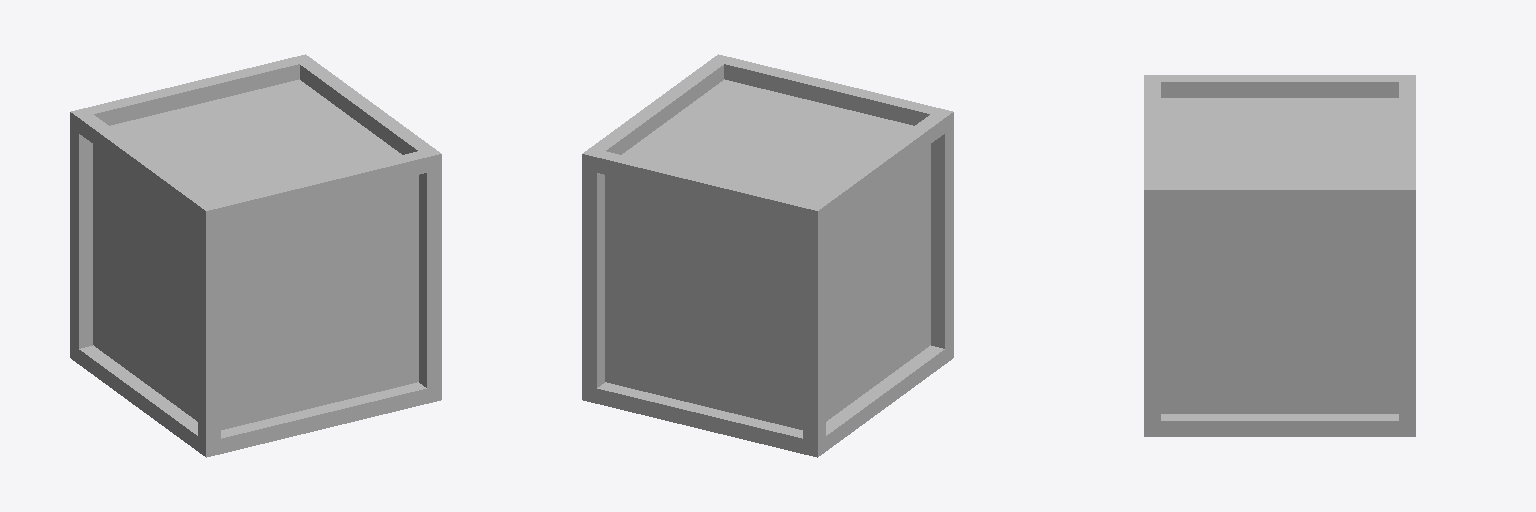
File: tris.obj
3 renders of one model, left to right at view 1: azimuth 30°, elevation 25°; view 2: azimuth 150°, elevation 25°; view 3: azimuth 270°, elevation 25°, orthographic.
Visible parts, largest first — view 1: slot777; view 2: slot777; view 3: slot777.
Boxes of the visible parts, x1=… form: slot777: x1=70, y1=54, x2=441, y2=457; slot777: x1=582, y1=54, x2=953, y2=457; slot777: x1=1144, y1=75, x2=1415, y2=436.
Size of the model in its own units: 32 by 32 by 32.